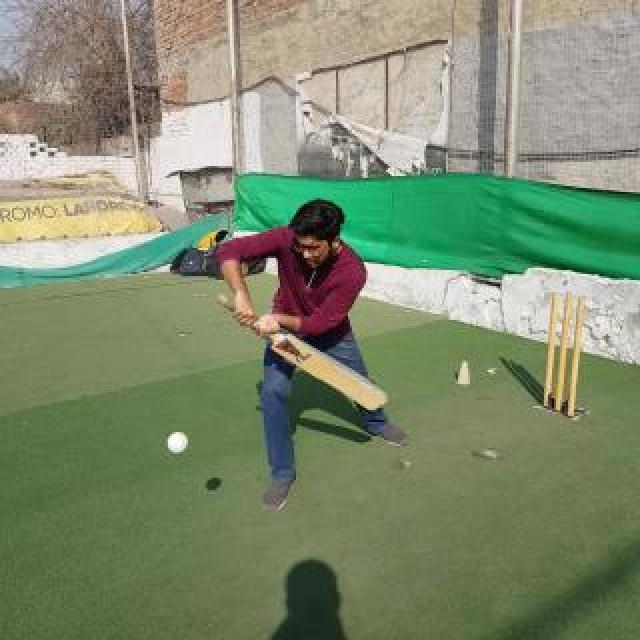ball: (166, 432, 190, 454)
bat: (216, 294, 388, 412)
